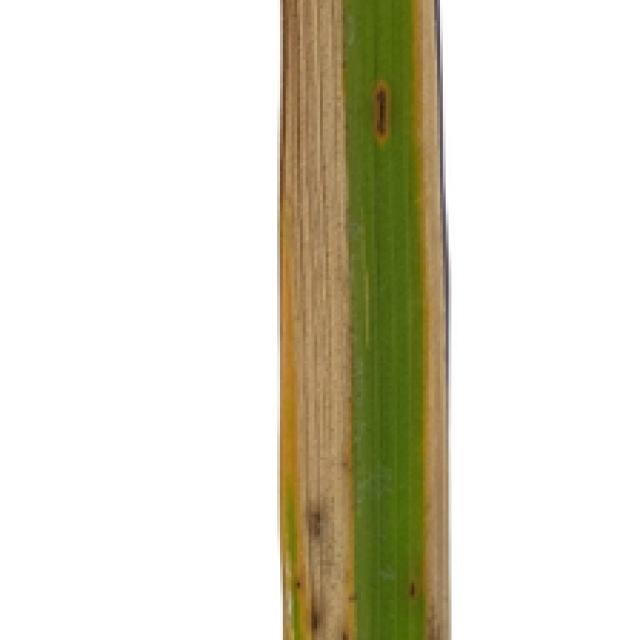Rice___Bacterial_Leaf_Blight: (278, 0, 454, 637)
